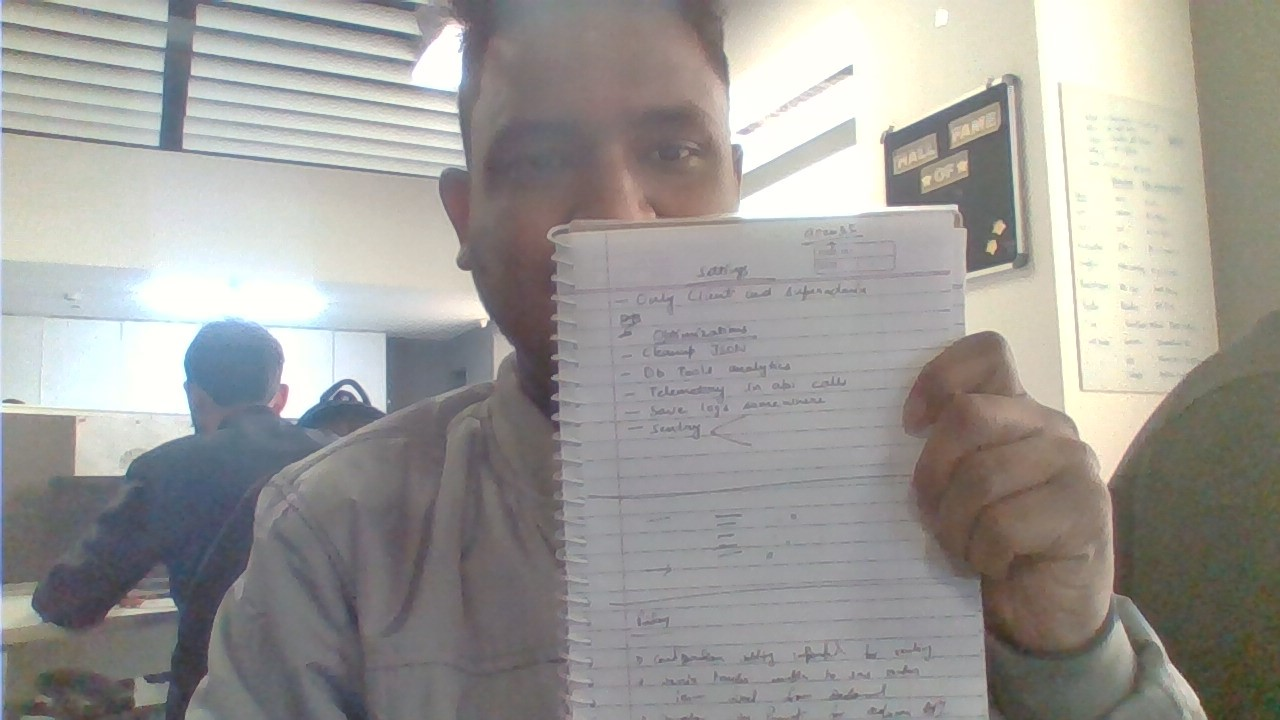partial: (548, 199, 1003, 720)
